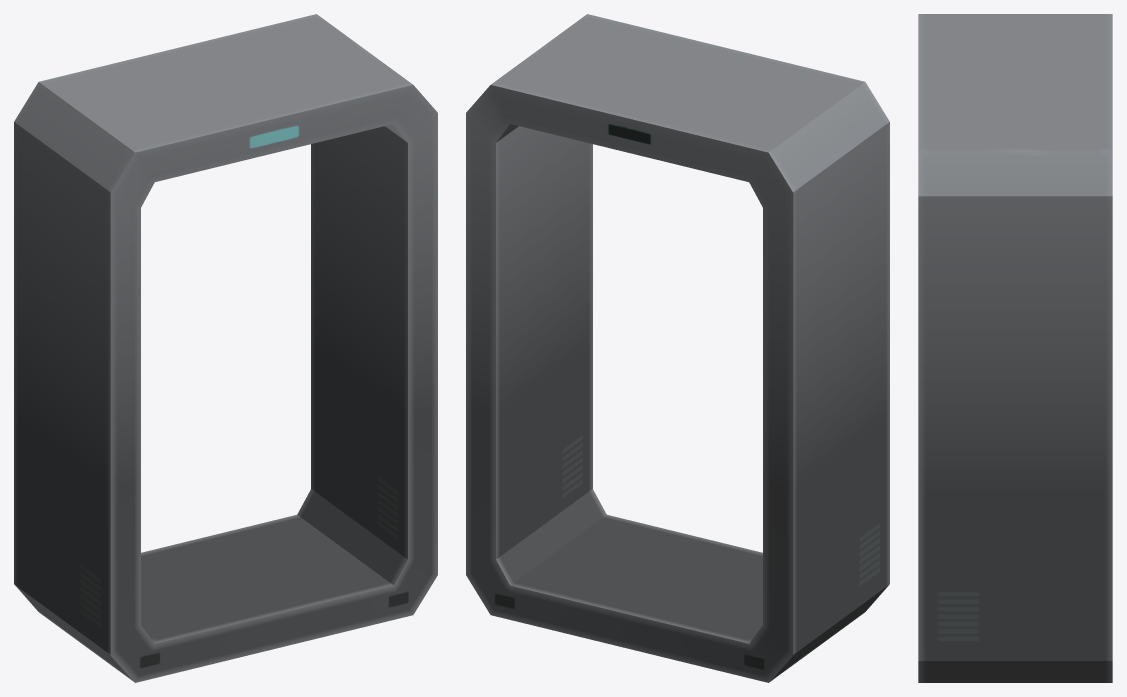
The model's file is SM_Stage1_Wall_DoorFrame.fbx.
3 renders of one model, left to right at view 1: azimuth 30°, elevation 25°; view 2: azimuth 150°, elevation 25°; view 3: azimuth 270°, elevation 25°, orthographic.
Parts seen in each view (by area): view 1: SM_Stage1_DoorFrame; view 2: SM_Stage1_DoorFrame; view 3: SM_Stage1_DoorFrame.
Part boxes in pixels (box(x1,y1,x2,y2)): SM_Stage1_DoorFrame: box(14, 14, 437, 682); SM_Stage1_DoorFrame: box(466, 14, 889, 682); SM_Stage1_DoorFrame: box(918, 14, 1112, 682).
Bounding box in the file's own units: 149 × 231 × 76.37.
1 material, 1 textured.
